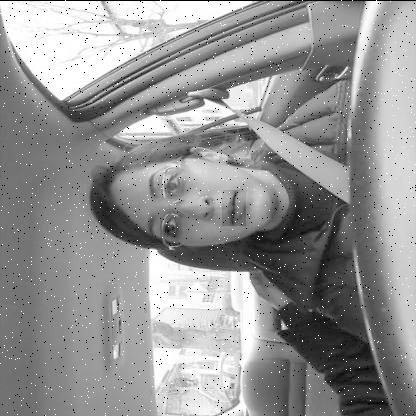seatbelt: (81, 121, 416, 255)
